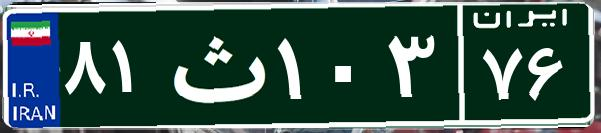0: (330, 28, 385, 110)
1: (273, 28, 330, 110), (110, 28, 158, 105)
3: (385, 28, 445, 110)
6: (525, 38, 570, 115)
7: (475, 38, 525, 113)
8: (57, 26, 110, 107)
ث: (158, 15, 273, 115)
